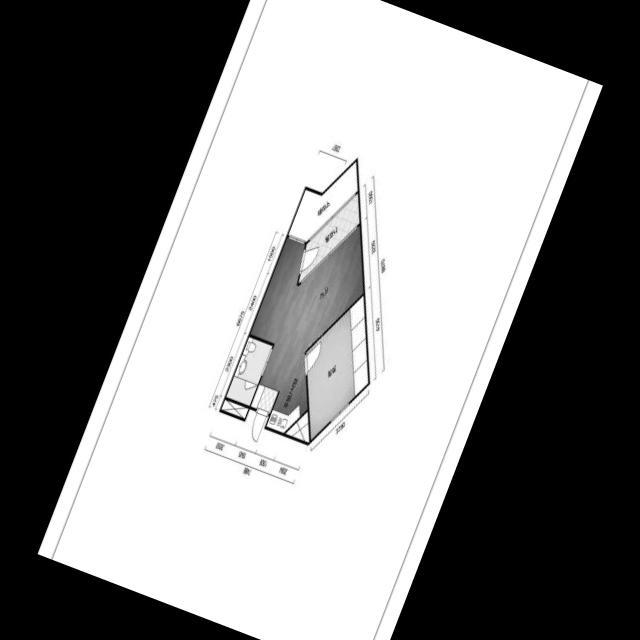background: (37, 0, 603, 640)
space_balconi: (288, 161, 358, 242), (299, 193, 360, 283)
space_bedroom: (306, 295, 368, 440)
space_front: (251, 384, 279, 414)
space_kitchen: (266, 348, 308, 433)
space_living_room: (250, 225, 363, 391)
space_other: (285, 411, 309, 443), (221, 399, 249, 418)
space_toilet: (226, 337, 273, 406)
